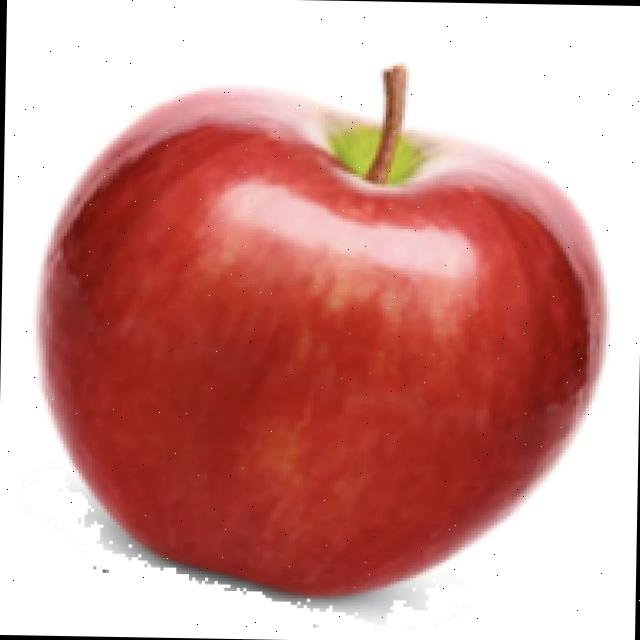apple: (31, 59, 615, 625)
